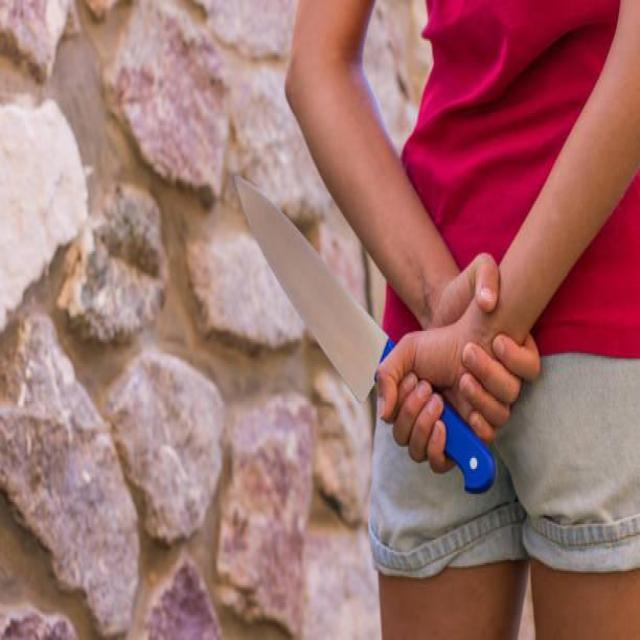faca: (220, 151, 504, 502)
